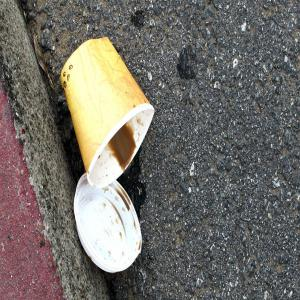Cup: (61, 37, 157, 194)
